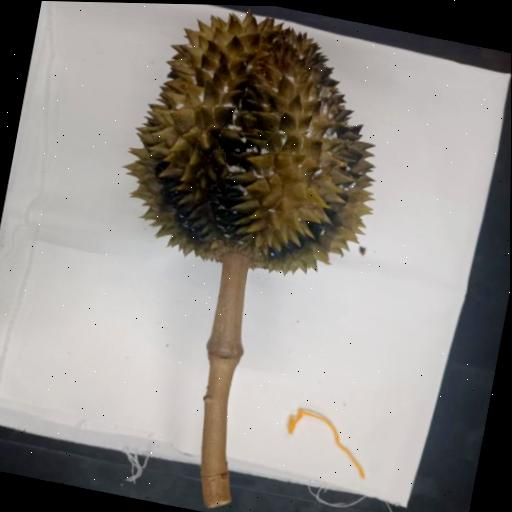mold: (83, 2, 441, 326)
